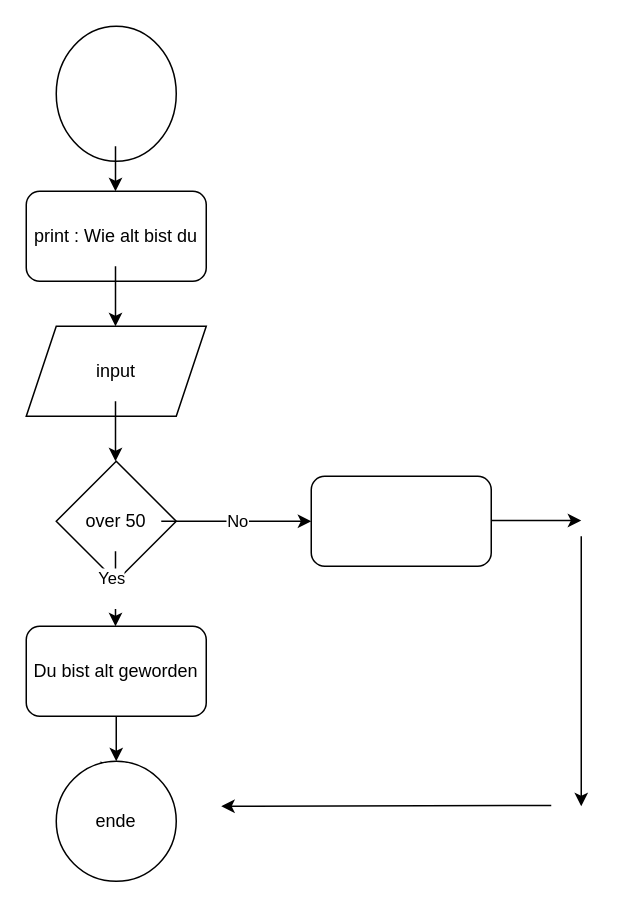
The diagram is 620 pixels wide and 908 high, and some of its shapes have lost their labels. Here are the shapes that lost their labels. From the top down, the centre of each, then its label:
pixel 115 93: start
pixel 400 520: Eines Tages wirst du auch alt
